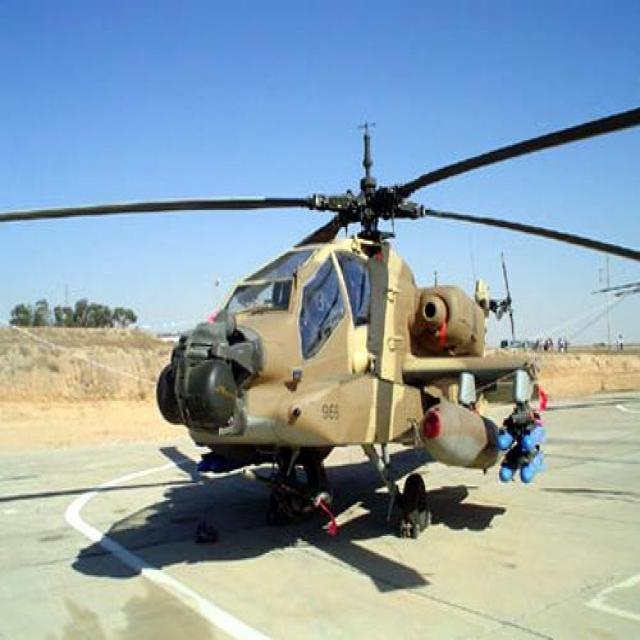MIL_HELO: (0, 88, 640, 538)
